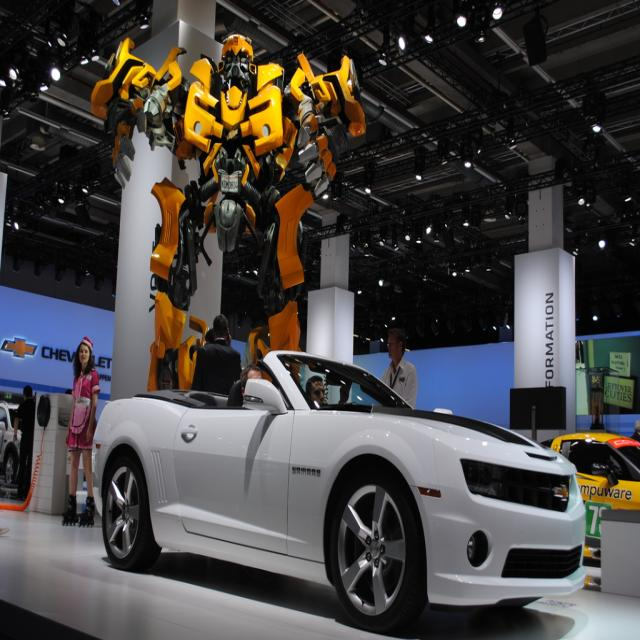car: (87, 347, 585, 635)
